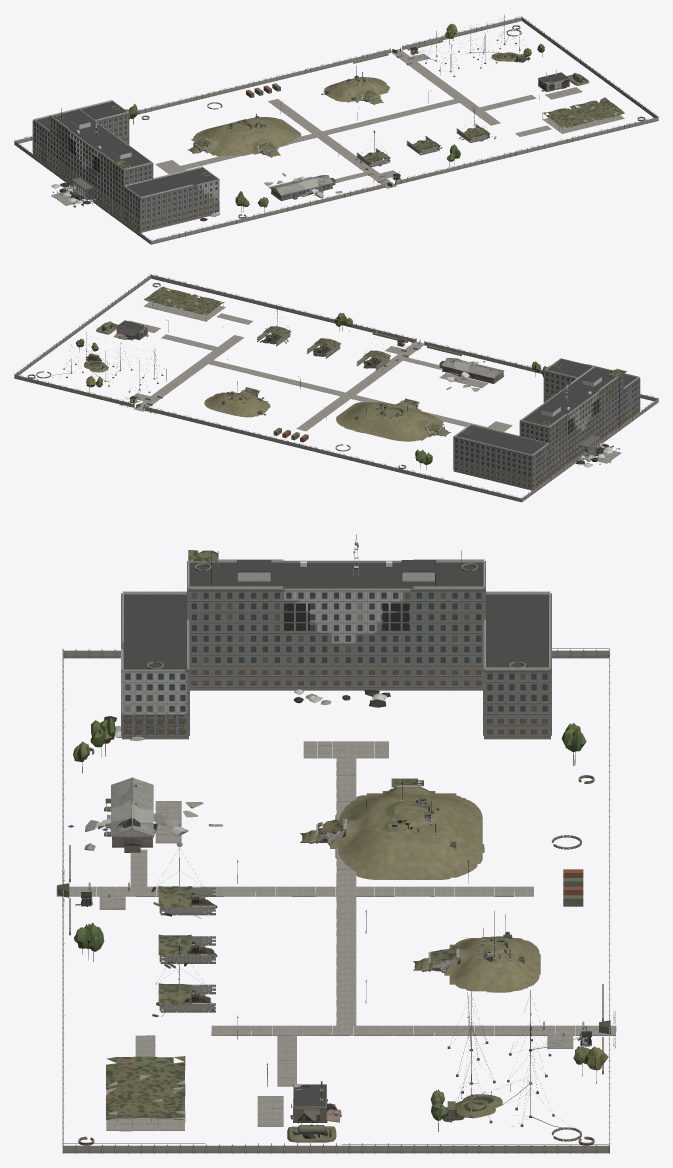
Rendered from site_cp_city.glb.
3 views of the same model, one above another, from view 1: azimuth 30°, elevation 25°; view 2: azimuth 150°, elevation 25°; view 3: azimuth 270°, elevation 25° (orthographic). The views are drawn at different scales.
Visible parts, largest first — view 1: b_hq|F_A, deco|F_A, deco|tile_conc, b_hq_ruin|F_B, b_bunker1|F_A, b_hq|F_glassF, b_comms|F_A, b_barracks|F_A, deco_trees|F_A, b_des|F_A, b_barracks_ruin|F_B, b_bunker1_ruin|F_B (+4 smaller); view 2: b_hq|F_A, deco|F_A, deco|tile_conc, b_hq_ruin|F_B, b_bunker1|F_A, b_hq|F_glassF, b_comms|F_A, deco_trees|F_A, b_barracks|F_A, b_barracks_ruin|F_B, b_des|F_A, b_bunker1_ruin|F_B (+4 smaller); view 3: b_hq|F_A, deco|tile_conc, deco|F_A, b_hq_ruin|F_B, b_bunker1|F_A, b_hq|F_glassF, b_comms|F_A, deco_trees|F_A, b_barracks|F_A, b_barracks_ruin|F_B, b_des|F_A, b_bunker1_ruin|F_B (+5 smaller).
Boxes of the visible parts, x1,y1,x2,y2 form: b_hq|F_A: (32, 101, 219, 232); deco|F_A: (14, 16, 658, 244); deco|tile_conc: (51, 49, 624, 205); b_hq_ruin|F_B: (33, 100, 220, 227); b_bunker1|F_A: (191, 113, 301, 156); b_hq|F_glassF: (34, 115, 217, 218); b_comms|F_A: (321, 66, 389, 103); b_barracks|F_A: (271, 175, 335, 200); deco_trees|F_A: (125, 23, 544, 212); b_des|F_A: (538, 70, 589, 91); b_barracks_ruin|F_B: (264, 173, 342, 200); b_bunker1_ruin|F_B: (187, 119, 280, 157); b_hq|F_A: (453, 358, 640, 490); deco|F_A: (14, 274, 658, 502); deco|tile_conc: (129, 298, 621, 463); b_hq_ruin|F_B: (454, 364, 639, 488); b_bunker1|F_A: (336, 398, 446, 441); b_hq|F_glassF: (455, 373, 638, 476); b_comms|F_A: (204, 381, 270, 417); deco_trees|F_A: (76, 312, 549, 470); b_barracks|F_A: (439, 358, 504, 383); b_barracks_ruin|F_B: (441, 357, 503, 391); b_des|F_A: (96, 320, 147, 339); b_bunker1_ruin|F_B: (372, 401, 451, 436); b_hq|F_A: (121, 534, 551, 739); deco|tile_conc: (56, 741, 616, 1131); deco|F_A: (57, 648, 615, 1153); b_hq_ruin|F_B: (104, 559, 550, 740); b_bunker1|F_A: (305, 778, 484, 879); b_hq|F_glassF: (125, 592, 547, 711); b_comms|F_A: (419, 911, 540, 992); deco_trees|F_A: (73, 716, 608, 1131); b_barracks|F_A: (104, 777, 153, 852); b_barracks_ruin|F_B: (84, 778, 222, 852); b_des|F_A: (287, 1081, 336, 1142); b_bunker1_ruin|F_B: (300, 785, 445, 845).
Size of the model in its own units: 375 by 49.23 by 170.
Materials: 36 (25 with a texture image).
